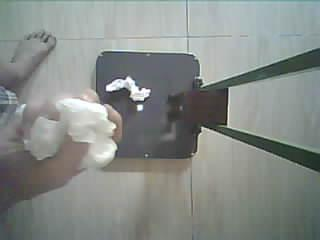paper: (24, 98, 118, 167), (106, 76, 151, 100)
